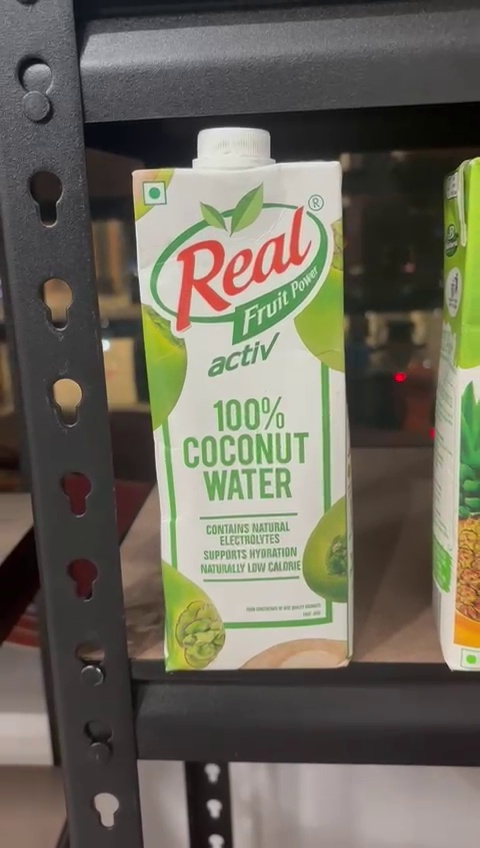Coconut water: (134, 118, 361, 680)
